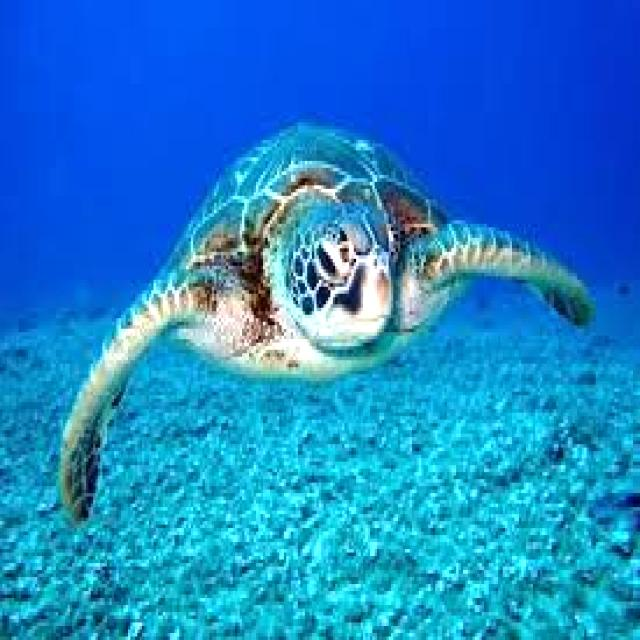Sea turtle: (58, 122, 594, 530)
